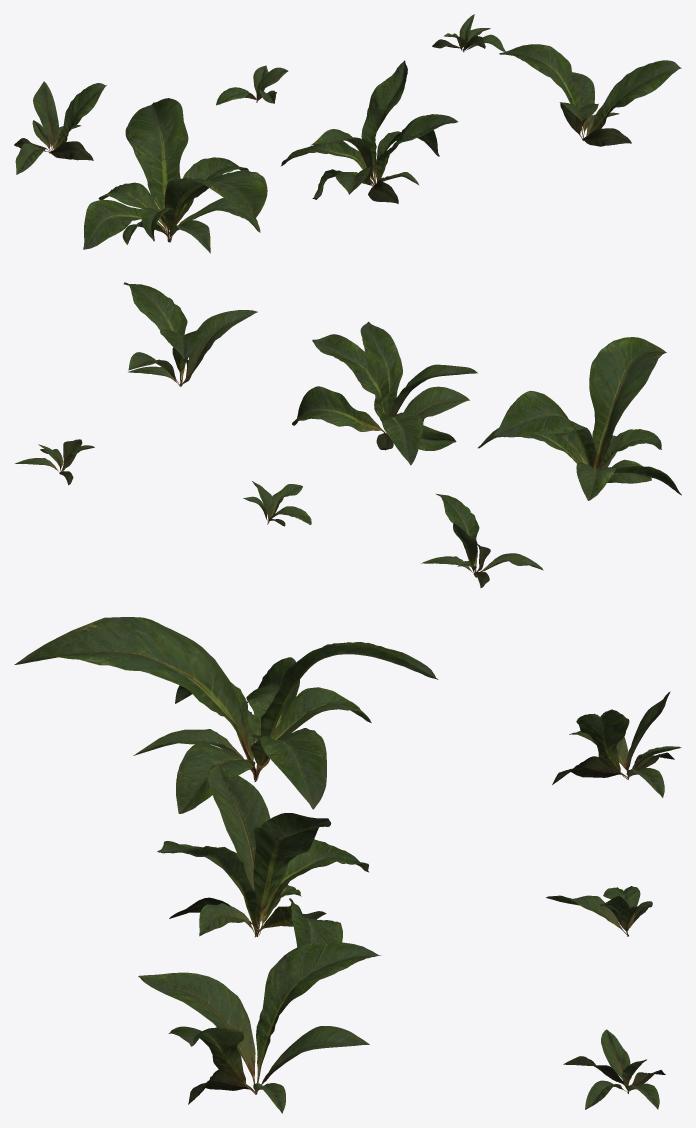
The model's file is anthurium_botany_01.glb.
3 views of the same model, one above another, from view 1: azimuth 30°, elevation 25°; view 2: azimuth 150°, elevation 25°; view 3: azimuth 270°, elevation 25° (orthographic). The views are drawn at different scales.
Parts seen in each view (by area): view 1: anthurium_botany_01_a, anthurium_botany_01_b, anthurium_botany_01_c, anthurium_botany_04_d, anthurium_botany_05_e, anthurium_botany_06_f; view 2: anthurium_botany_01_a, anthurium_botany_01_b, anthurium_botany_01_c, anthurium_botany_04_d, anthurium_botany_05_e, anthurium_botany_06_f; view 3: anthurium_botany_01_a, anthurium_botany_01_b, anthurium_botany_01_c, anthurium_botany_04_d, anthurium_botany_06_f, anthurium_botany_05_e.
Boxes of the visible parts, <box> form: anthurium_botany_01_a: <box>83,98,267,253</box>; anthurium_botany_01_b: <box>281,60,458,203</box>; anthurium_botany_01_c: <box>499,44,681,146</box>; anthurium_botany_04_d: <box>14,81,106,174</box>; anthurium_botany_05_e: <box>216,65,288,105</box>; anthurium_botany_06_f: <box>432,14,505,52</box>; anthurium_botany_01_a: <box>478,337,681,500</box>; anthurium_botany_01_b: <box>292,321,477,465</box>; anthurium_botany_01_c: <box>123,282,257,386</box>; anthurium_botany_04_d: <box>421,494,543,587</box>; anthurium_botany_05_e: <box>243,481,311,526</box>; anthurium_botany_06_f: <box>15,439,94,485</box>; anthurium_botany_01_a: <box>14,617,438,813</box>; anthurium_botany_01_b: <box>157,763,368,946</box>; anthurium_botany_01_c: <box>138,941,381,1113</box>; anthurium_botany_04_d: <box>552,691,681,797</box>; anthurium_botany_06_f: <box>563,1029,665,1109</box>; anthurium_botany_05_e: <box>546,886,652,936</box>.
Size of the model in its own units: 2.8 by 0.4995 by 1.8.
1 material, 1 textured.
